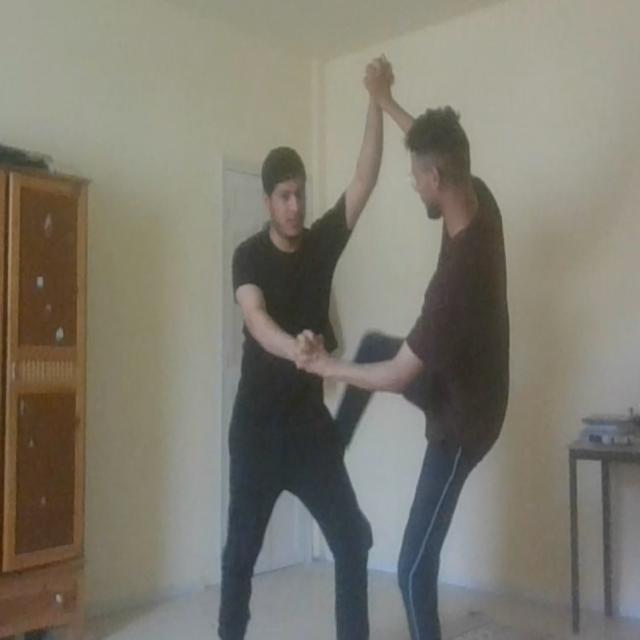violence: (199, 47, 539, 636), (238, 89, 489, 493)
